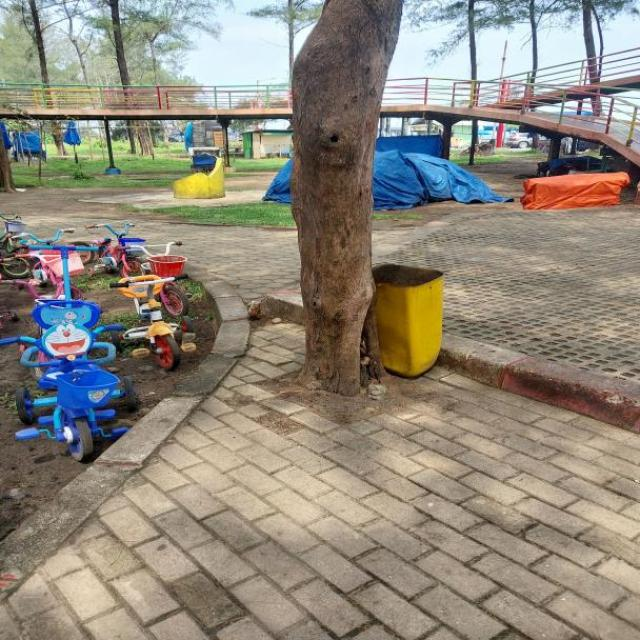dustbin ahead at: (369, 255, 446, 375)
tree ahead at: (290, 0, 388, 384)
